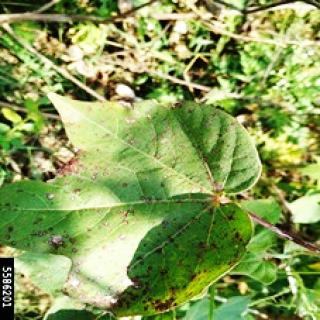blight: (29, 147, 255, 298)
